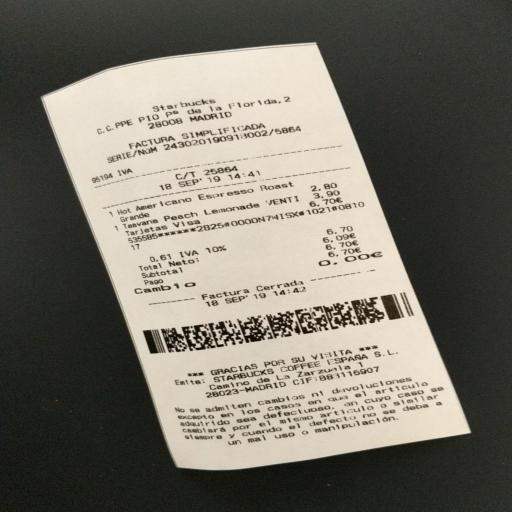paper: (24, 2, 512, 485)
